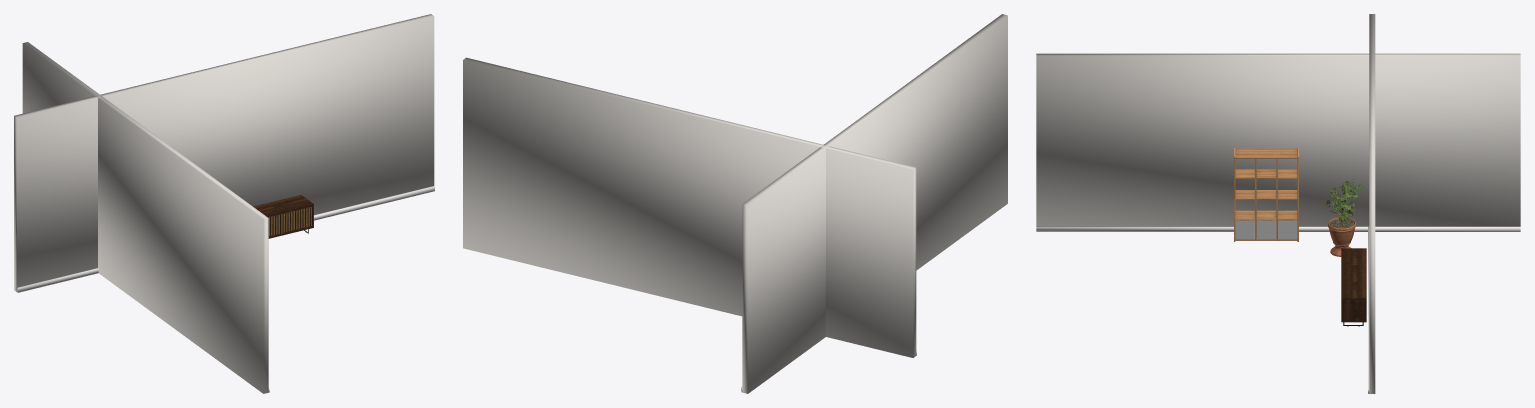
Rendered from room.glb.
3 views of the same model, side by side, from view 1: azimuth 30°, elevation 25°; view 2: azimuth 150°, elevation 25°; view 3: azimuth 270°, elevation 25° (orthographic). The views are drawn at different scales.
Parts seen in each view (by area): view 1: wall_back, wall_side, modern_wooden_cabinet_body, skirt_b; view 2: wall_back, wall_side; view 3: wall_side, wooden_display_shelves_01, skirt_b, wall_back, modern_wooden_cabinet_body, potted_plant_01_pebbles, potted_plant_01_leaves.
Part boxes in pixels (<box>): wall_back: <box>14,14,434,291</box>; wall_side: <box>22,42,268,393</box>; modern_wooden_cabinet_body: <box>253,195,313,238</box>; skirt_b: <box>17,186,434,392</box>; wall_back: <box>463,57,916,357</box>; wall_side: <box>742,14,1007,393</box>; wall_side: <box>1036,53,1520,226</box>; wooden_display_shelves_01: <box>1233,147,1298,241</box>; skirt_b: <box>1036,226,1520,393</box>; wall_back: <box>1369,14,1375,393</box>; modern_wooden_cabinet_body: <box>1341,248,1366,326</box>; potted_plant_01_pebbles: <box>1328,186,1355,256</box>; potted_plant_01_leaves: <box>1326,178,1363,220</box>.
Size of the model in its own units: 8 by 3.2 by 8.
Materials: 6 (4 with a texture image).
